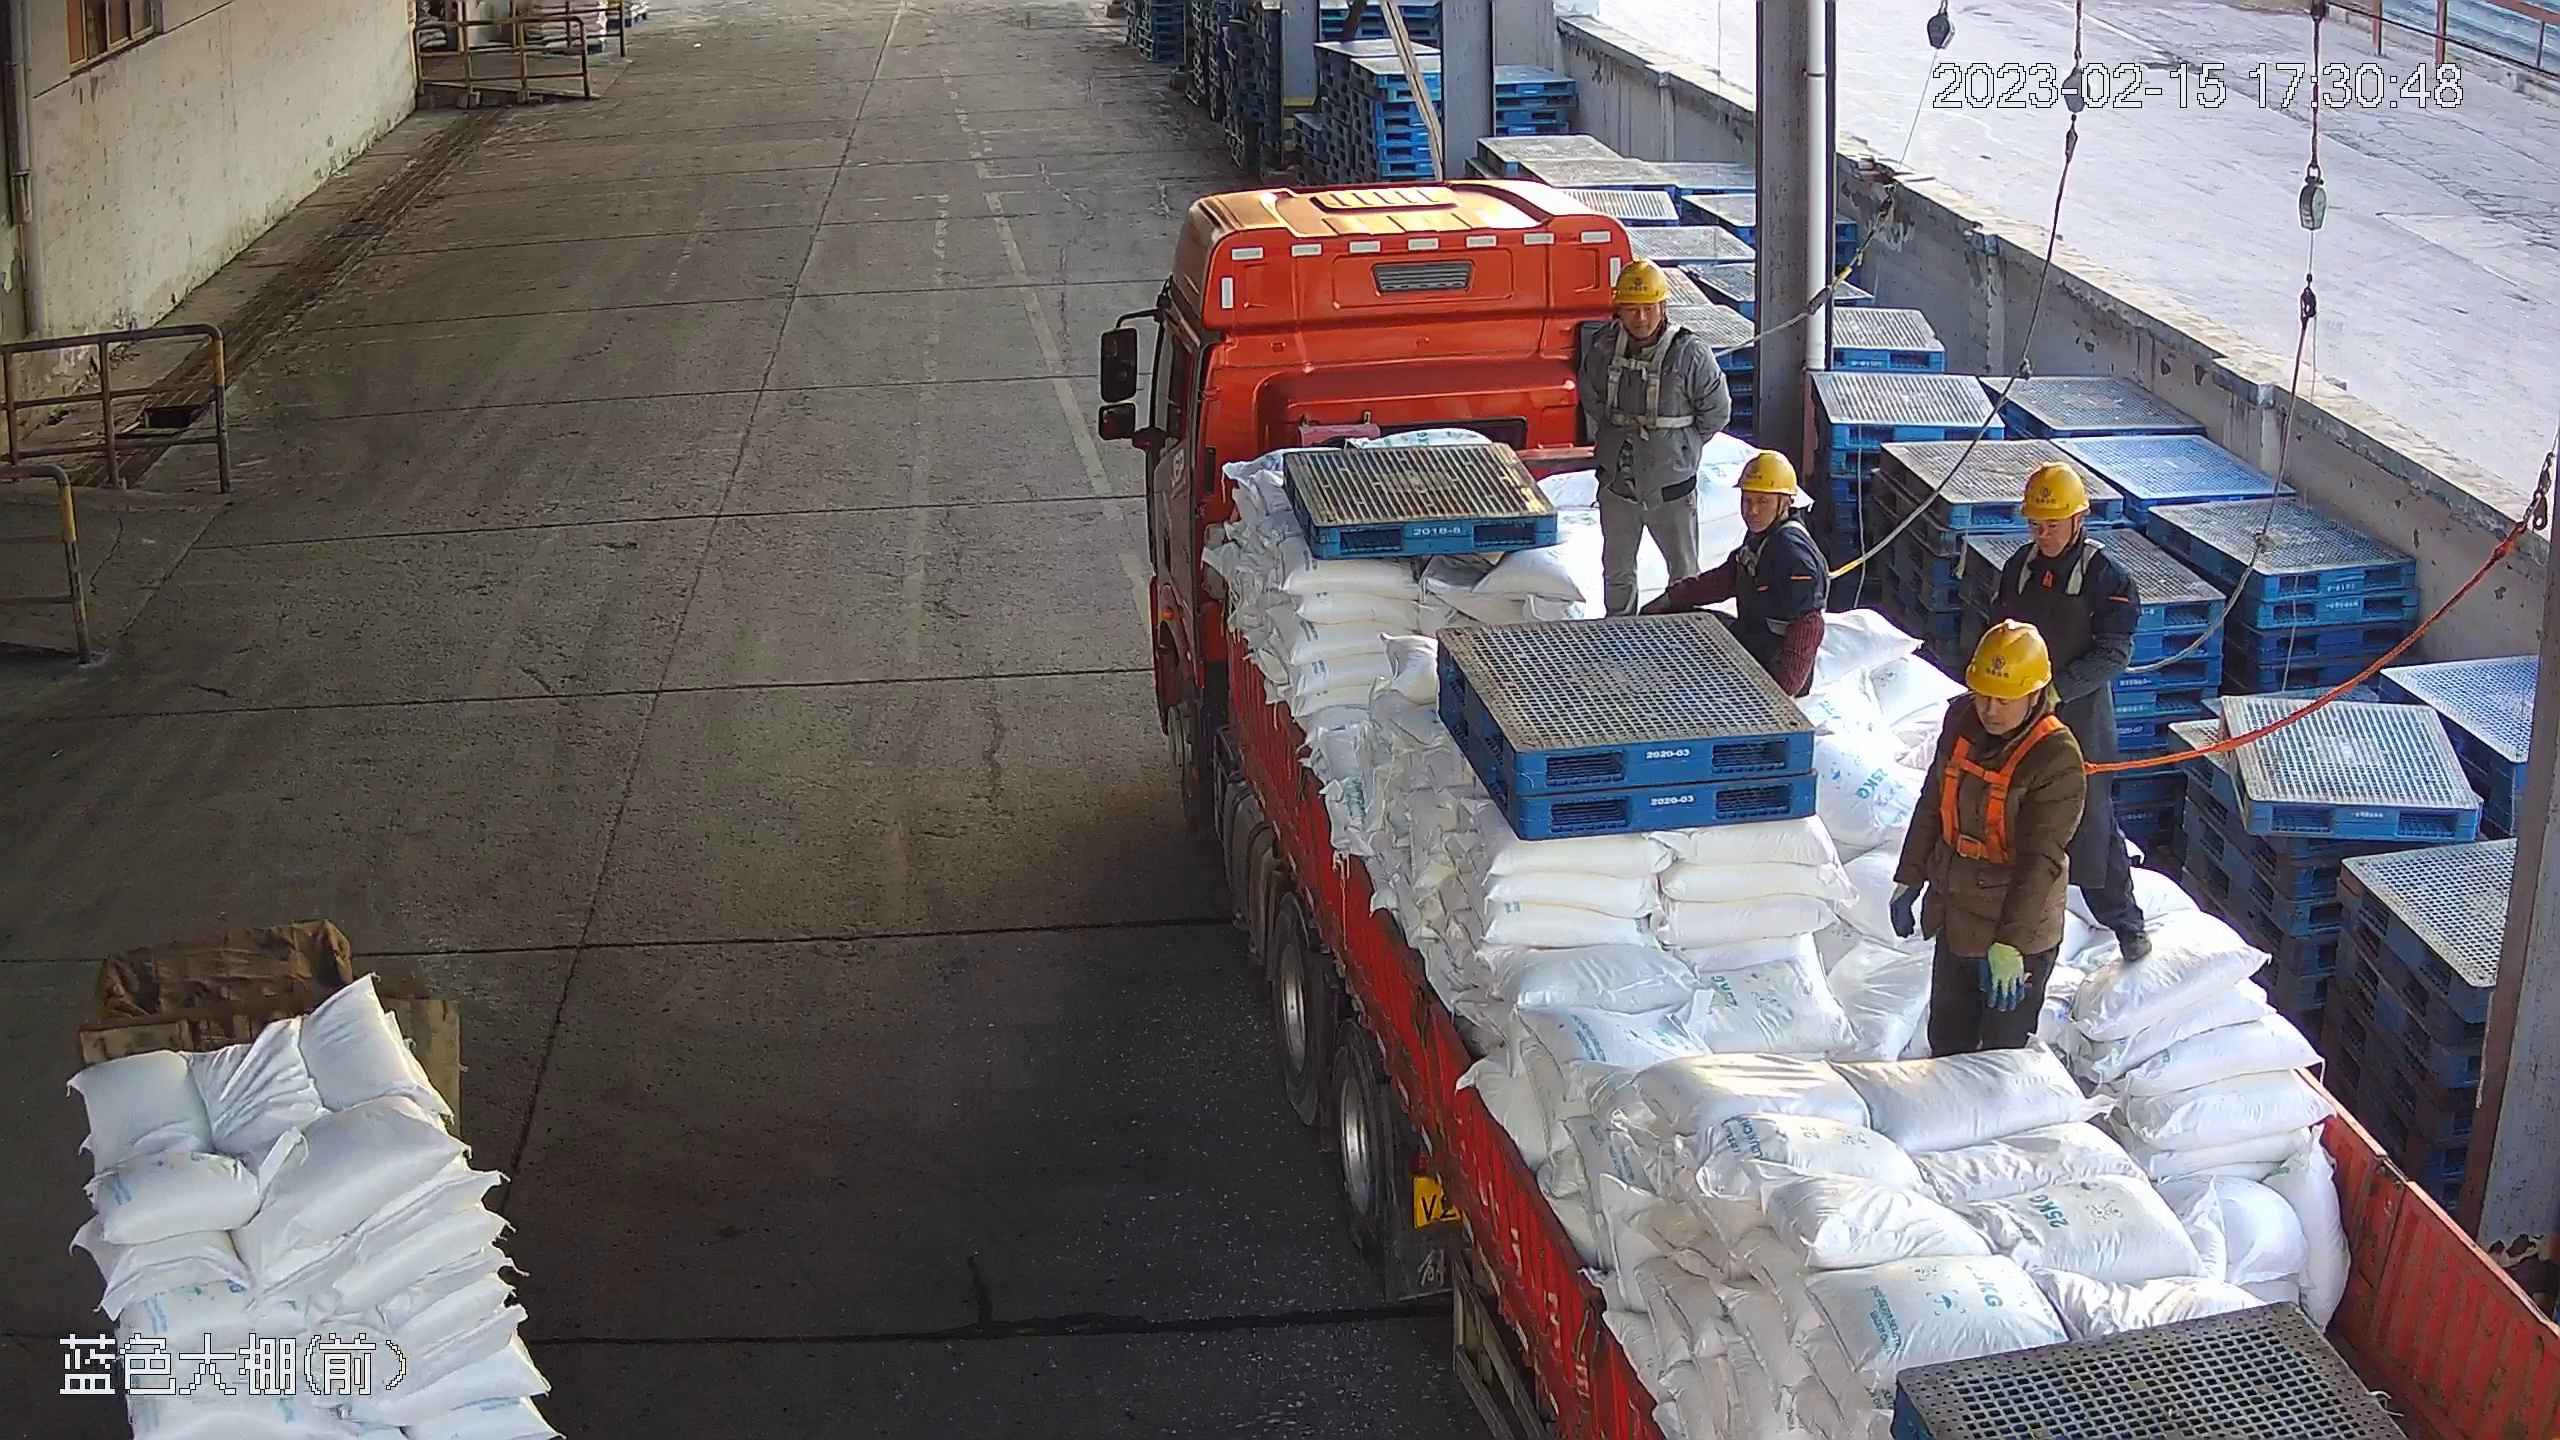belt: (1937, 705, 2110, 867), (2022, 538, 2153, 681), (1736, 517, 1862, 641), (1600, 319, 1725, 431)
head: (1916, 614, 2090, 772), (1997, 458, 2143, 607), (1585, 258, 1720, 365), (1727, 448, 1834, 570)
helmet: (1962, 616, 2057, 701), (2018, 462, 2093, 522), (1731, 449, 1801, 498), (1609, 257, 1671, 306)
people: (1887, 615, 2088, 1062), (1994, 459, 2157, 964), (1568, 257, 1732, 619), (1635, 448, 1830, 702)
truck: (1146, 177, 2560, 1440)
